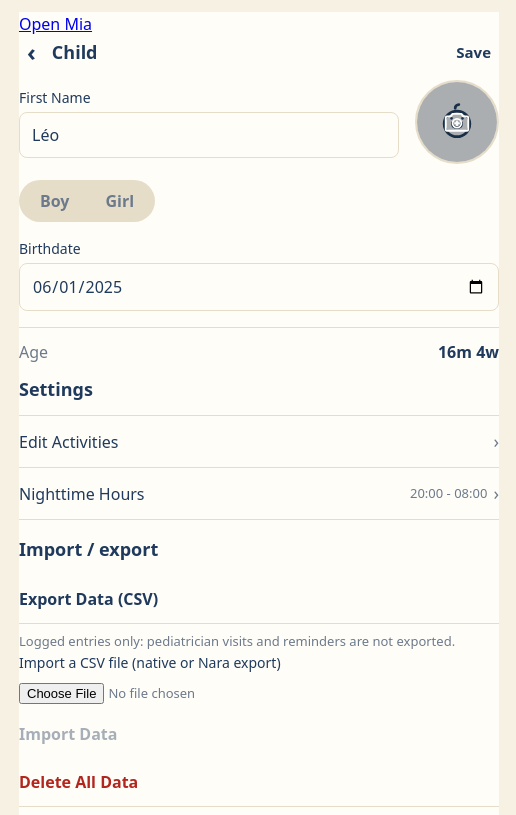
Test: ChildPage › shows the profile of another child when the address changes
Expected: the field labelled "First Name" holds "Léo", [19, 112, 399, 158]
Click the link "Open Mia". click: (56, 24)
box: [19, 13, 92, 35]
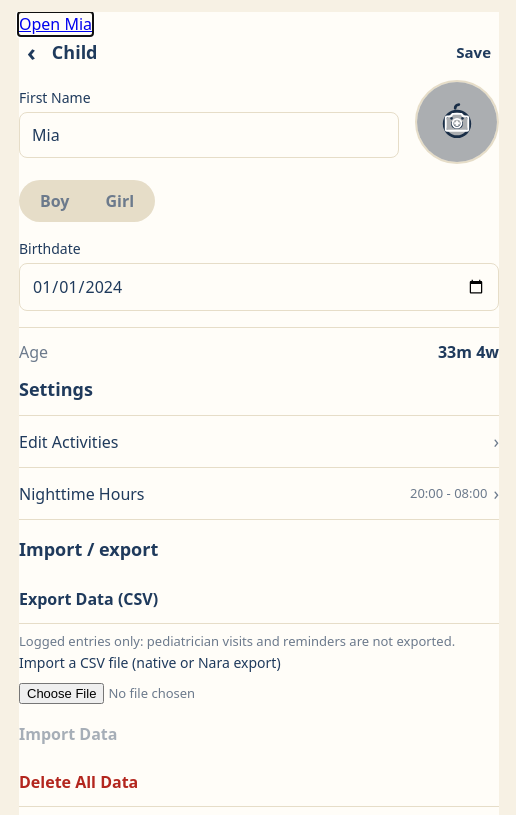
Result: the field labelled "First Name" holds "Mia" at [19, 112, 399, 158]
